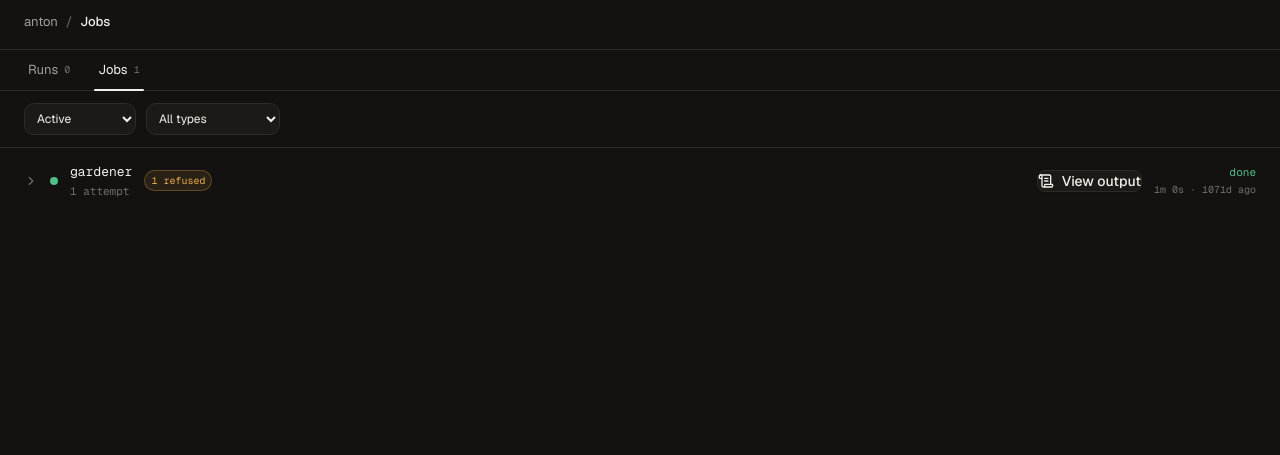
jobs page — what each pass applied, shadowed and refused › gives a refusal planApply's own reason, so 'the board moved' reads apart from 'evidence went stale'
Step 1. Click the button "gardener 1 attempt 1 refused" → (101, 171), box [24,162,1025,200]
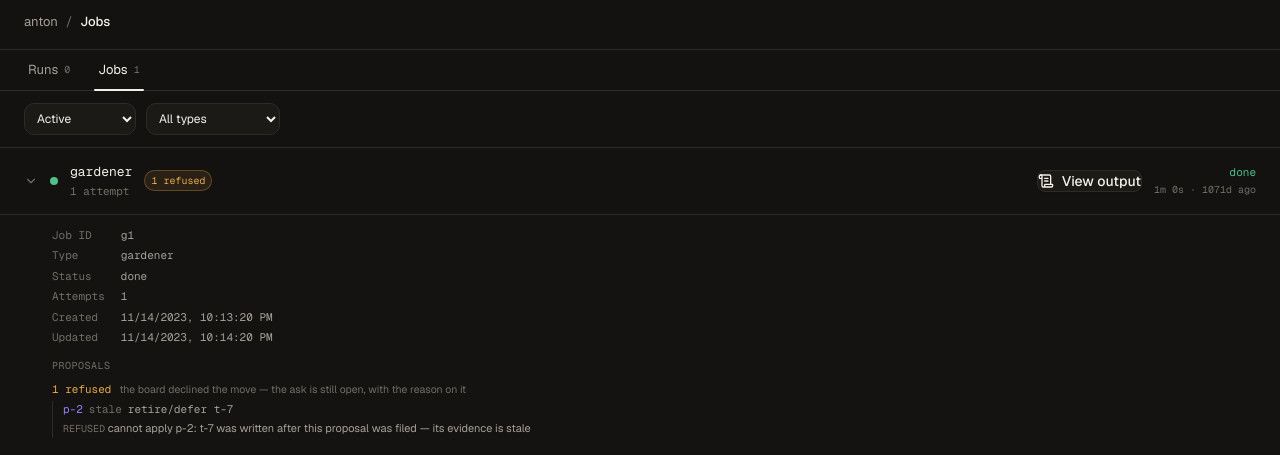
Now the text "t-7 was written after this proposal was filed — its evidence is stale" is shown, box [108,421,531,435]
Now the text "1 refused" below "Proposals" is shown, box [52,380,111,397]
